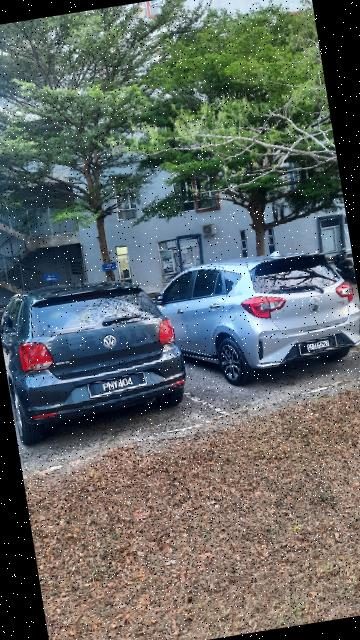License_Plate: (85, 368, 153, 401), (298, 335, 342, 357)
car: (1, 261, 200, 443), (143, 237, 360, 396)
